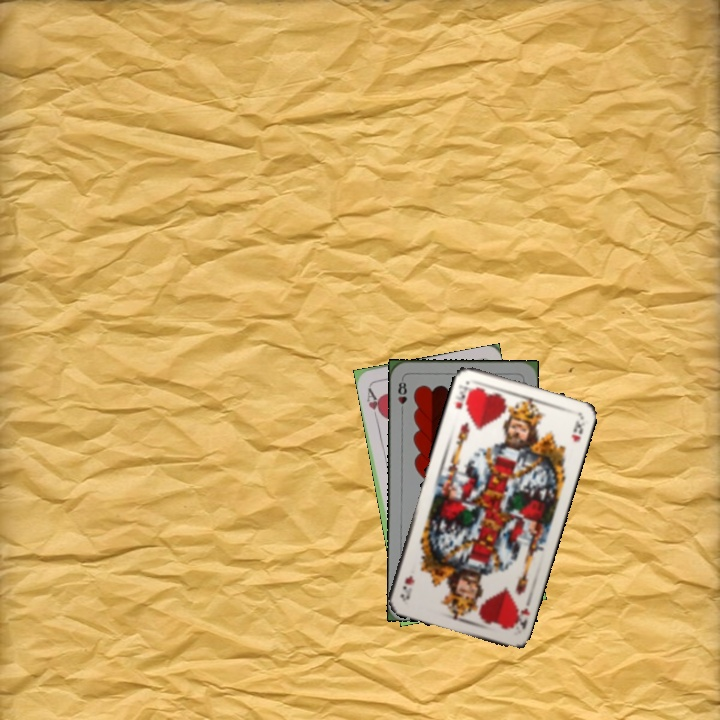H8: (394, 375, 409, 415)
HA: (362, 382, 385, 422)
HK: (507, 600, 532, 633), (451, 380, 474, 412)
